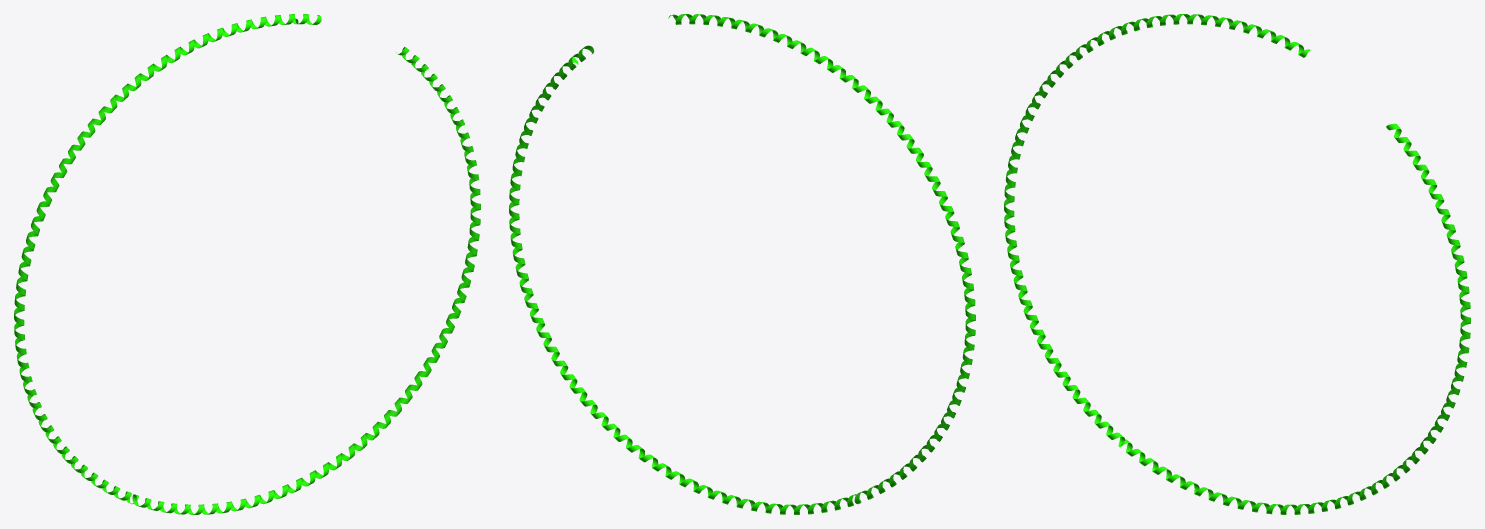
File: alphaMatTest_ktx_v2.glb
3 views of the same model, side by side, from view 1: azimuth 30°, elevation 25°; view 2: azimuth 150°, elevation 25°; view 3: azimuth 330°, elevation 25° (orthographic).
Parts seen in each view (by area): view 1: 100cm_Band1_main; view 2: 100cm_Band1_main; view 3: 100cm_Band1_main.
Boxes of the visible parts, x1,y1,x2,y2 form: 100cm_Band1_main: (14,14,480,514); 100cm_Band1_main: (509,14,975,514); 100cm_Band1_main: (1004,14,1470,514).
Size of the model in its own units: 1.02 by 1.02 by 0.0196.
1 material, 1 textured.
